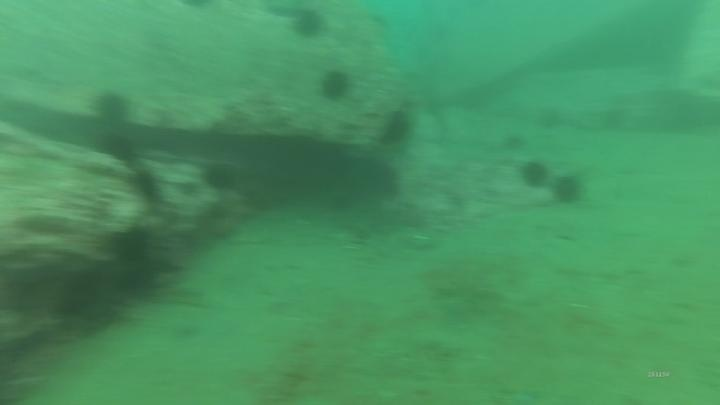echinus: (346, 153, 401, 204), (109, 224, 155, 268), (122, 263, 167, 305), (377, 107, 416, 150), (95, 130, 141, 166), (91, 89, 133, 127), (200, 159, 241, 195), (288, 7, 328, 43), (316, 67, 354, 104), (548, 170, 584, 206), (517, 157, 552, 192), (499, 129, 526, 160)
